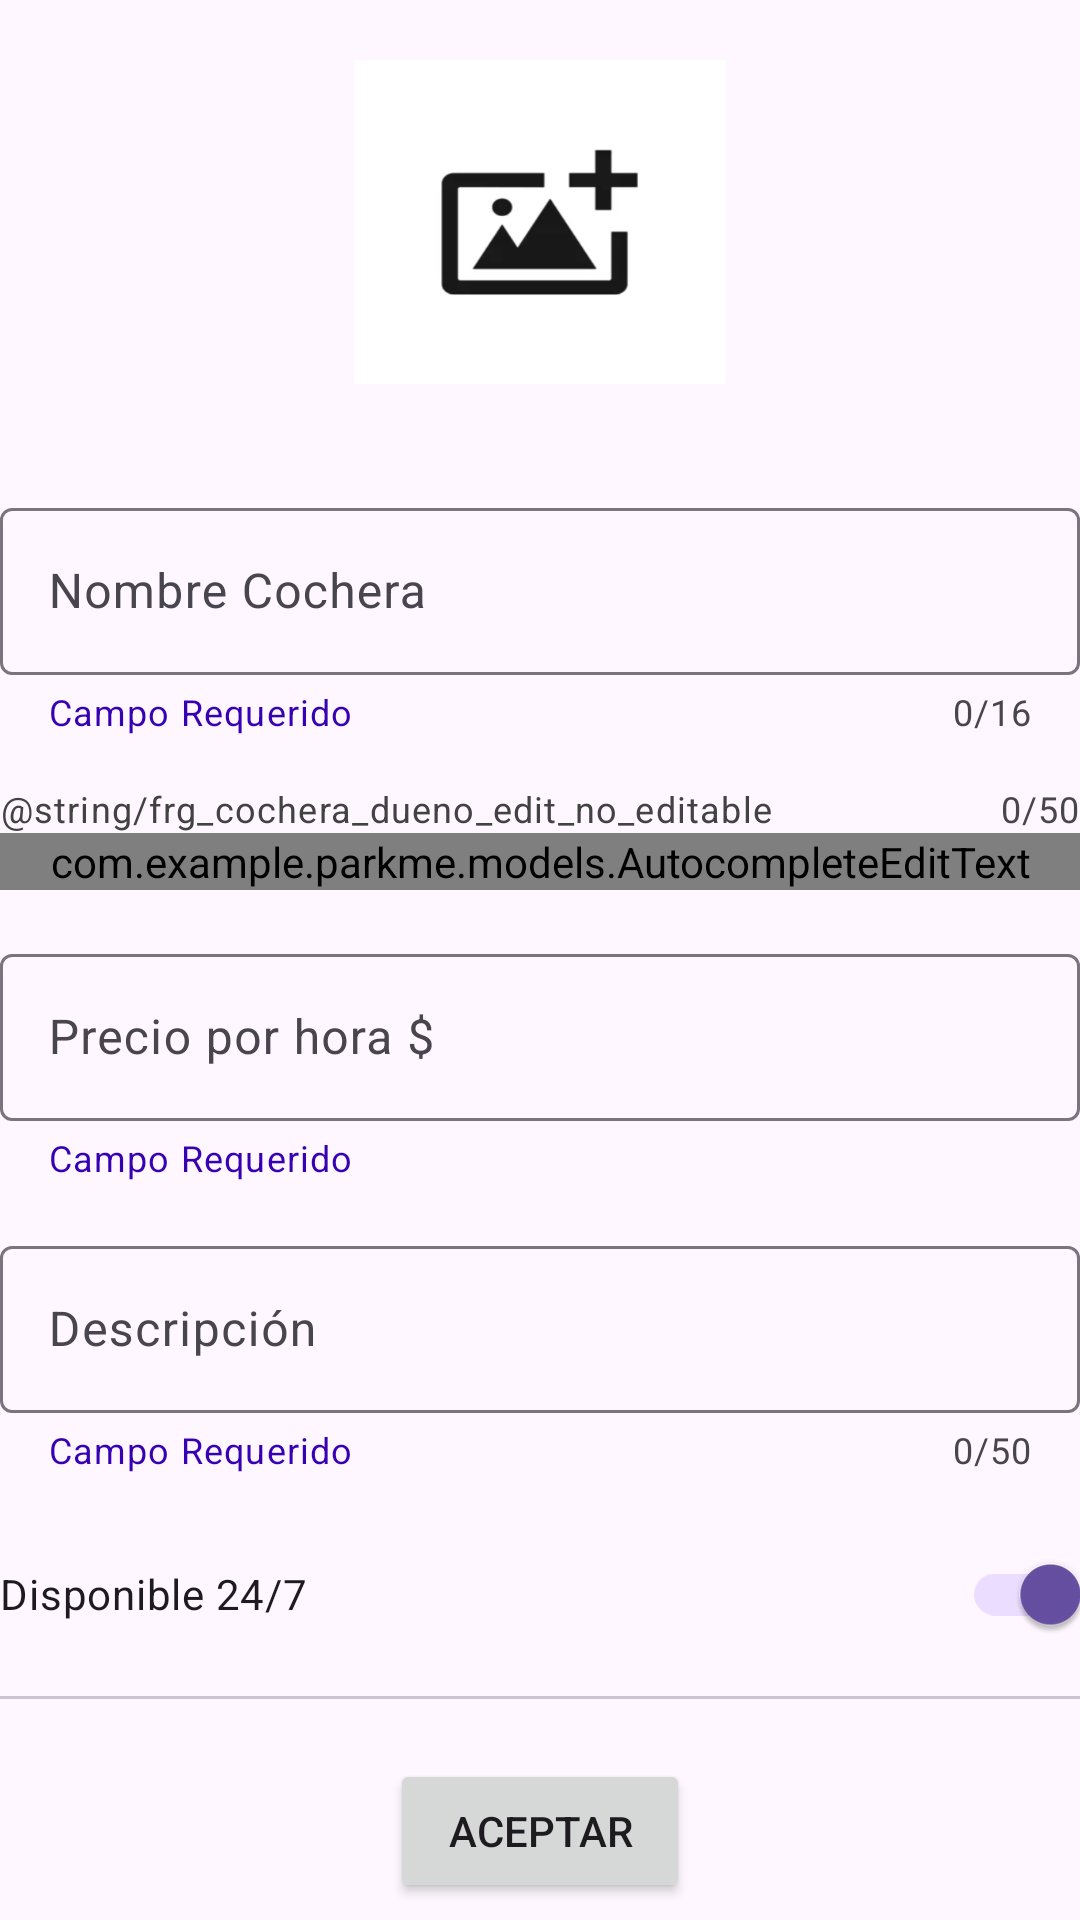

Named icons in this screenshot (1080 × 1920) and their centers, point (x, y):
Carga de nueva imagen de cochera: point (539, 222)
